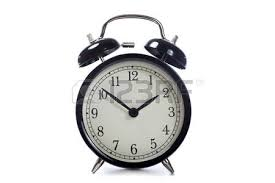alarm_clock: (72, 15, 194, 173)
